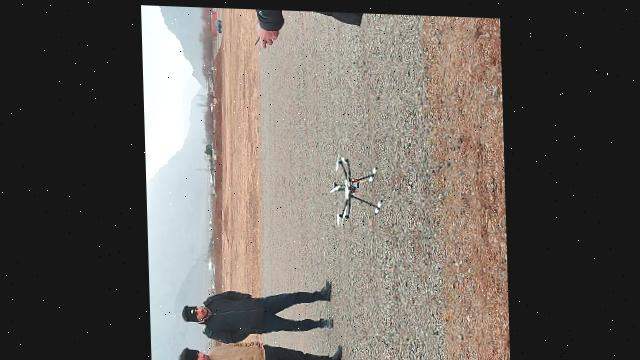drone: (326, 150, 383, 226)
